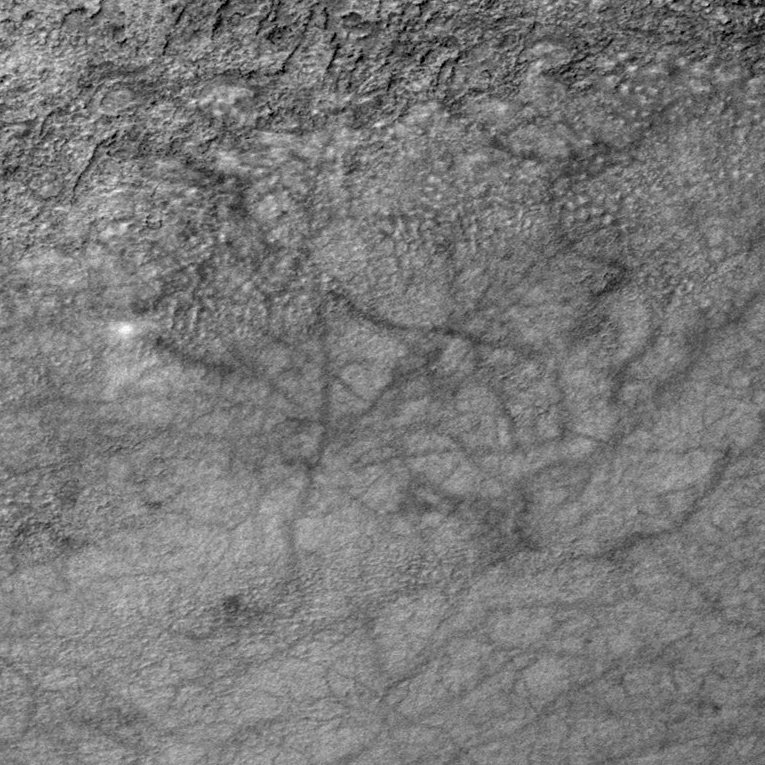dust_devil: (110, 316, 237, 380)
